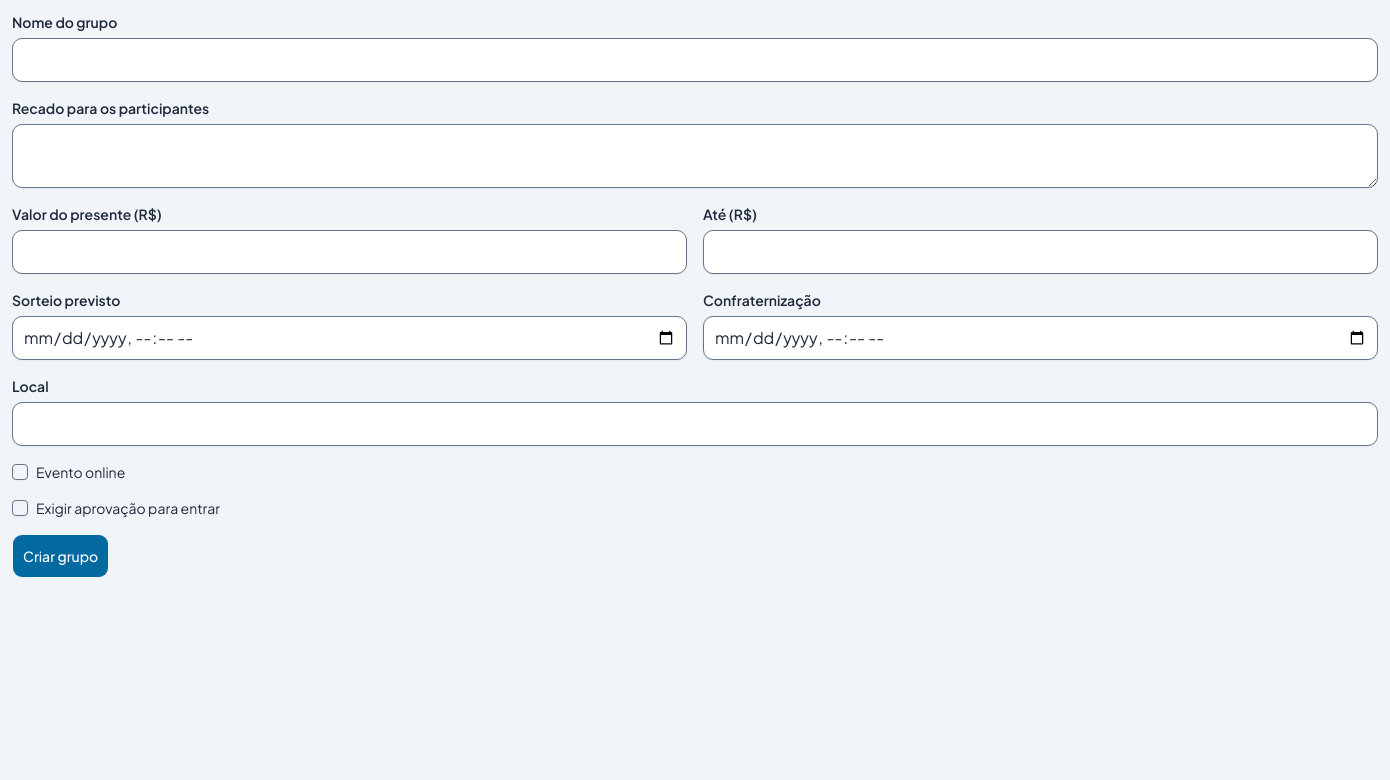
Test case: GroupForm › mostra a mensagem da API num 429
The image size is (1390, 780).
Type "Família" into the field labelled "Nome do grupo".
click(695, 60); type("Família")  # box 12,38 -> 1378,82
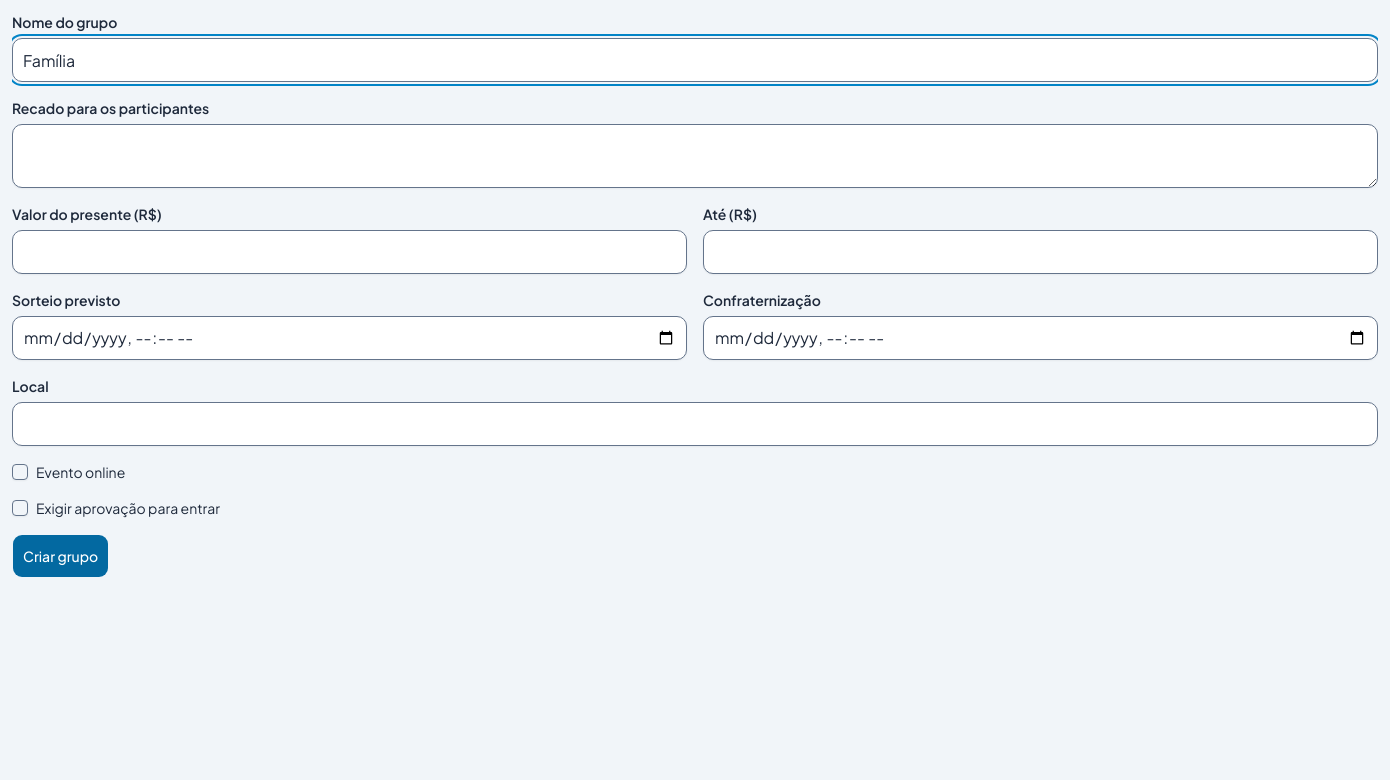
Click the button "Criar grupo".
click(61, 556)  # box 12,534 -> 109,578
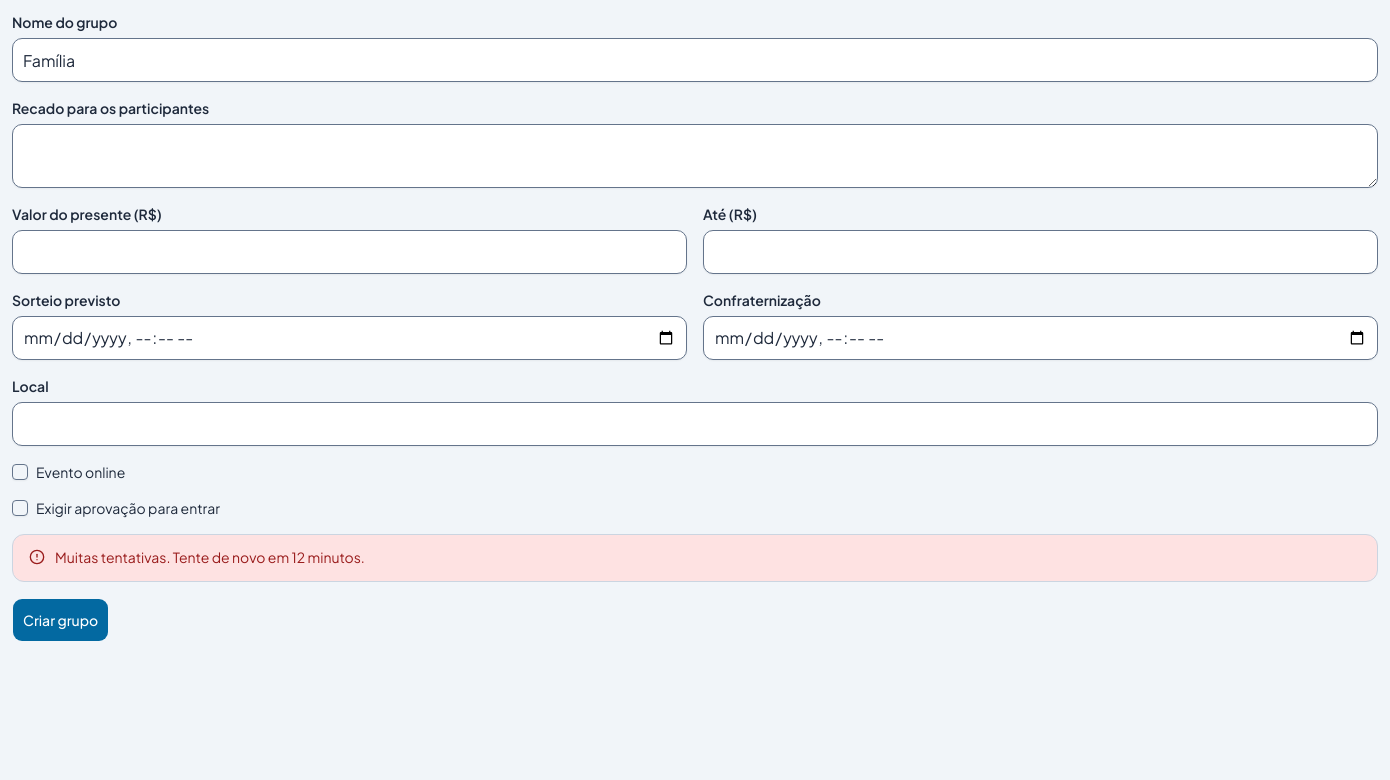
expect the message reads "Muitas tentativas. Tente de novo em 12 minutos.": met, box 55,548 -> 365,566
